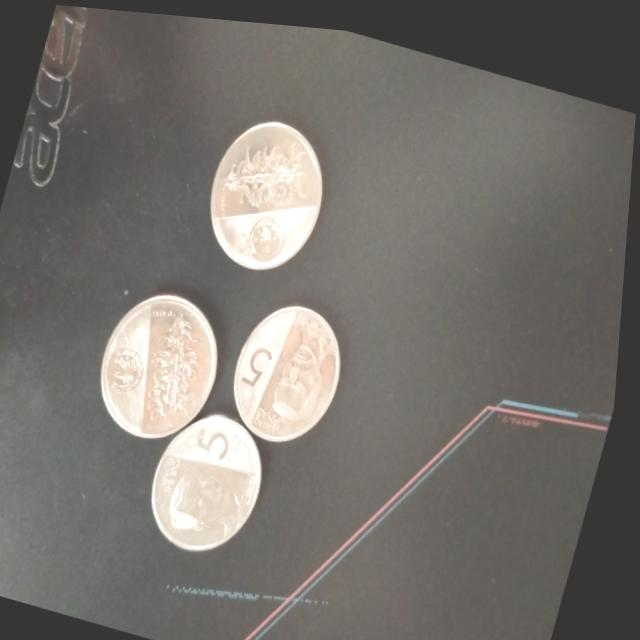5_New_Back: (131, 298, 229, 439), (217, 117, 325, 218)
5_New_Front: (231, 316, 293, 406), (192, 399, 257, 474)
